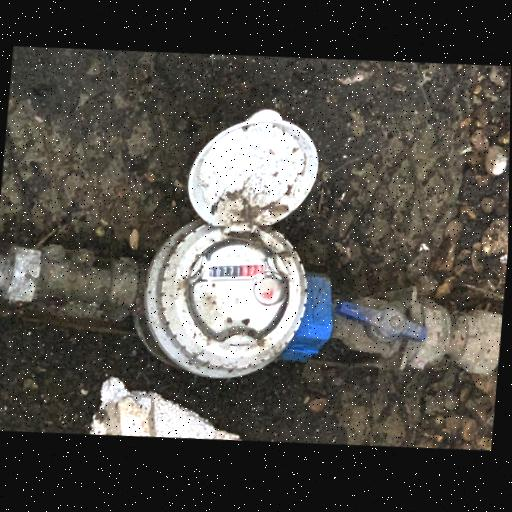0: (207, 265, 215, 278), (214, 265, 222, 277)
1: (234, 265, 242, 277)
2: (248, 264, 257, 277)
5: (256, 264, 264, 275)
7: (227, 264, 235, 277), (220, 265, 228, 277)
9: (241, 264, 249, 276)
border_water_meter_number: (207, 261, 264, 281)
